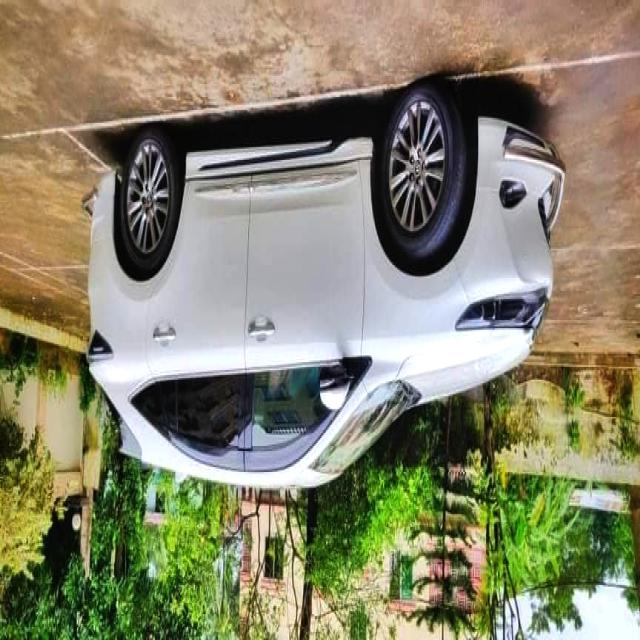white: (85, 78, 566, 466)
